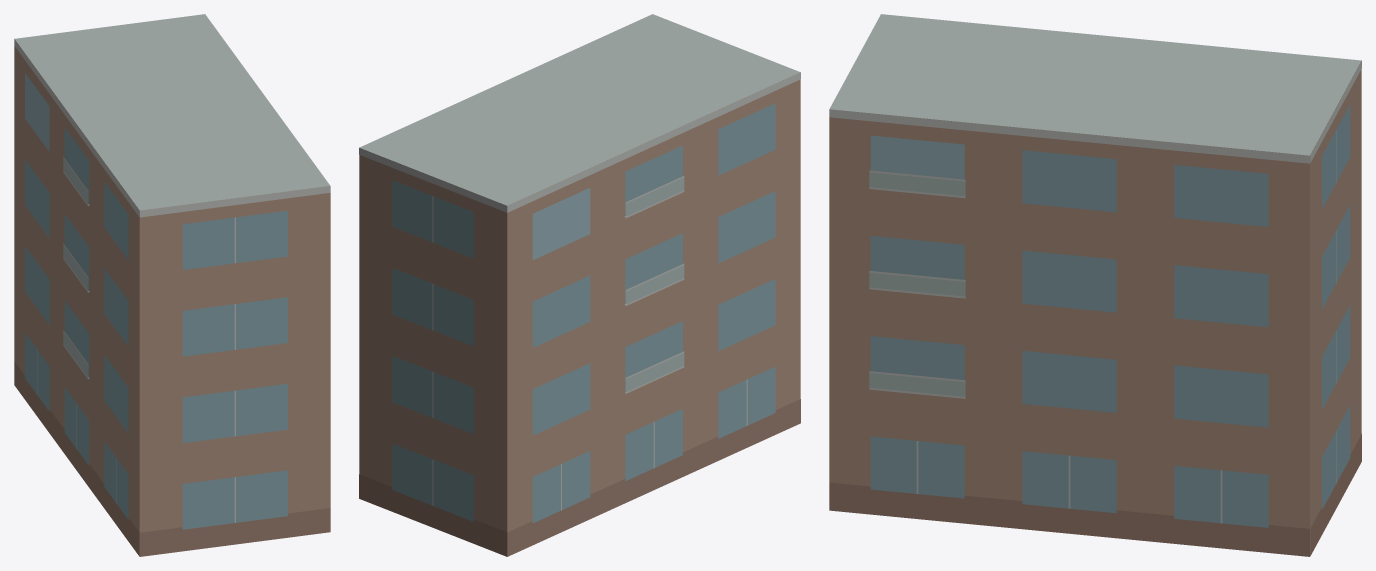
The model's file is residential-7faad930-b4c0-46e8-96c8-dc1f0990520a.glb.
The picture shows the model from 3 angles, left to right: view 1: azimuth 30°, elevation 25°; view 2: azimuth 150°, elevation 25°; view 3: azimuth 270°, elevation 25°; orthographic projection. The views are drawn at different scales.
Visible parts, largest first — view 1: residential-7faad930-b4c0-46e8-96c8-dc1f0990520a.tmp; view 2: residential-7faad930-b4c0-46e8-96c8-dc1f0990520a.tmp; view 3: residential-7faad930-b4c0-46e8-96c8-dc1f0990520a.tmp.
Part boxes in pixels (bbox=[...]): residential-7faad930-b4c0-46e8-96c8-dc1f0990520a.tmp: bbox=[14, 14, 330, 556]; residential-7faad930-b4c0-46e8-96c8-dc1f0990520a.tmp: bbox=[359, 14, 800, 556]; residential-7faad930-b4c0-46e8-96c8-dc1f0990520a.tmp: bbox=[829, 14, 1361, 556].
Size of the model in its own units: 9.25 by 12.2 by 14.68.
